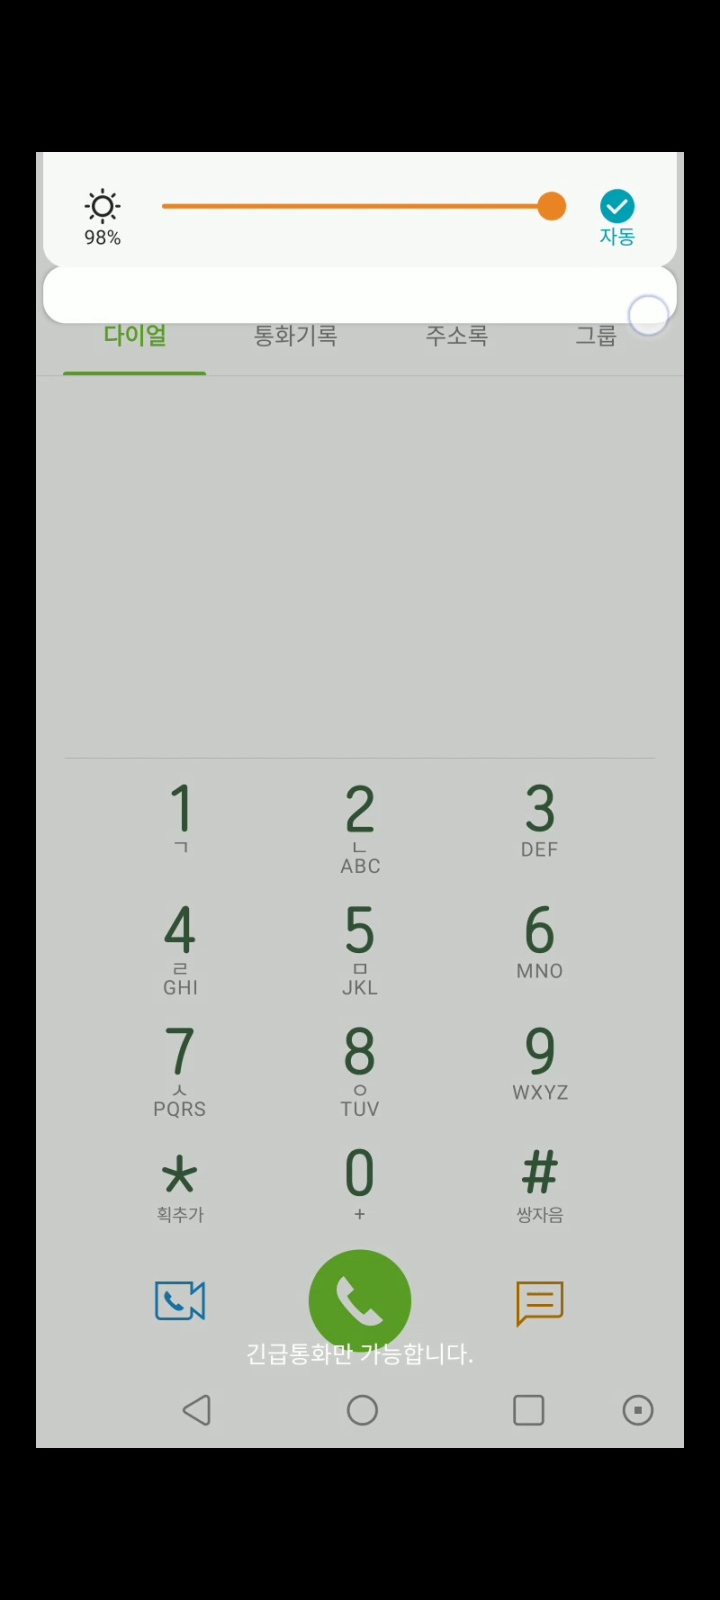Cursor: (628, 294, 673, 339)
